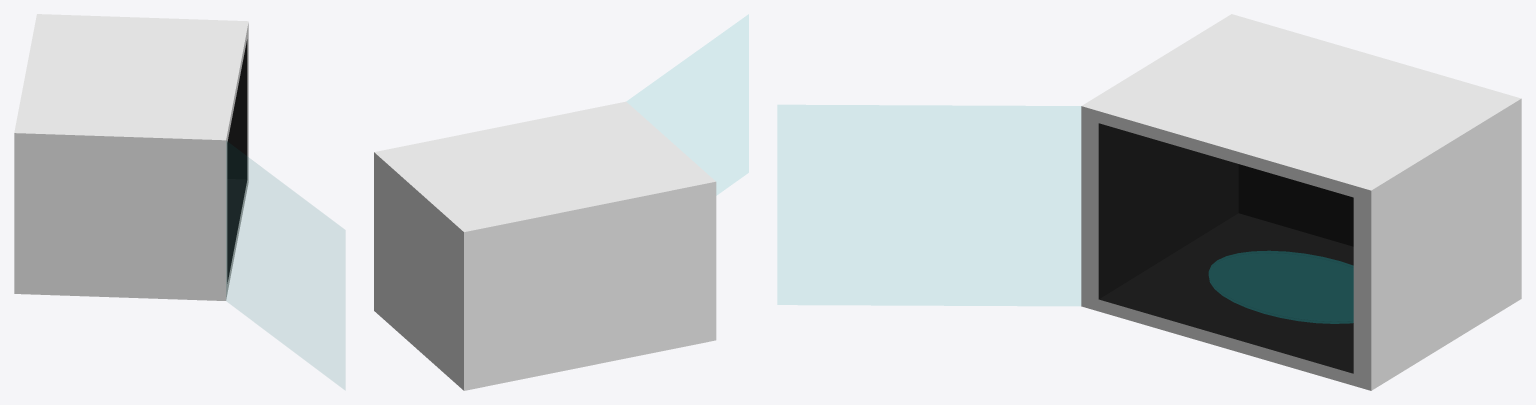
Rendered from microwave.glb.
3 renders of one model, left to right at view 1: azimuth 30°, elevation 25°; view 2: azimuth 150°, elevation 25°; view 3: azimuth 270°, elevation 25°, orthographic. The views are drawn at different scales.
Parts seen in each view (by area): view 1: Cylinder; view 2: Cylinder; view 3: Cylinder.
Part boxes in pixels (<box>): Cylinder: <box>14,14,344,388</box>; Cylinder: <box>374,15,748,390</box>; Cylinder: <box>778,14,1521,390</box>.
Bounding box in the file's own units: 0.7218 × 0.3818 × 1.29.
